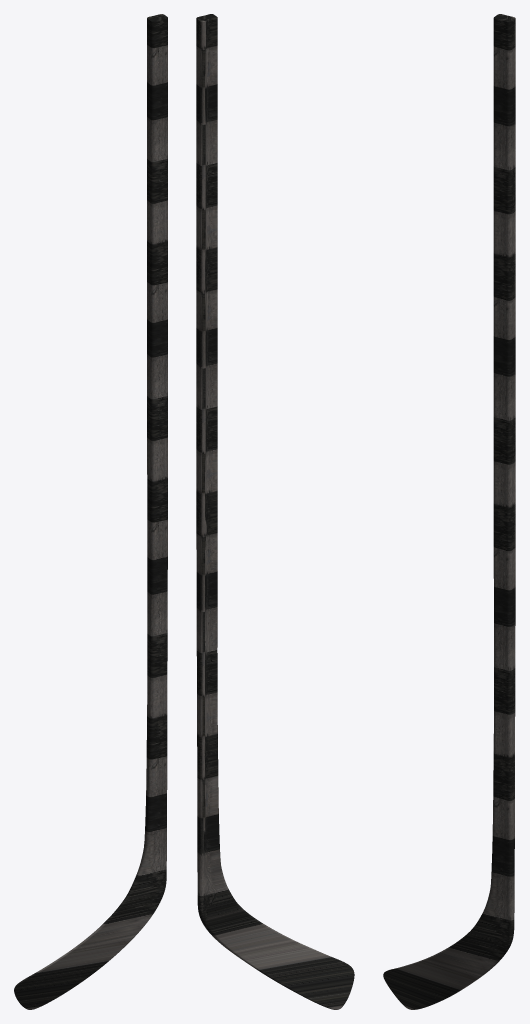
File: P02-SBT.glb
3 views of the same model, side by side, from view 1: azimuth 30°, elevation 25°; view 2: azimuth 210°, elevation 25°; view 3: azimuth 330°, elevation 25° (orthographic). The views are drawn at different scales.
Visible parts, largest first — view 1: geometry_0; view 2: geometry_0; view 3: geometry_0.
Part boxes in pixels (x1,y1,x2,y2): geometry_0: (14, 14, 167, 1009); geometry_0: (196, 14, 354, 1009); geometry_0: (383, 14, 515, 1009).
Bounding box in the file's own units: 243 × 1650 × 67.58.
Materials: 1 (1 with a texture image).
